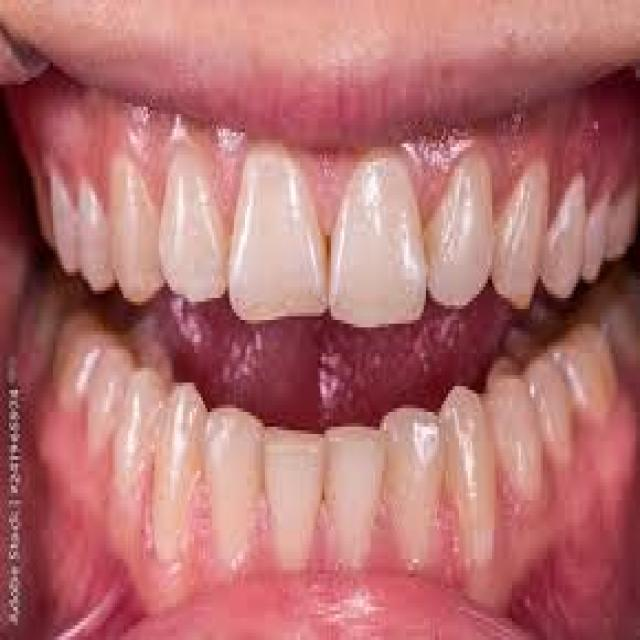tooth: (223, 125, 333, 331), (333, 151, 426, 335), (203, 379, 267, 570), (157, 136, 225, 313), (428, 136, 494, 313), (441, 390, 501, 574), (494, 136, 550, 320), (264, 416, 326, 578), (485, 357, 543, 526), (382, 401, 441, 563), (159, 364, 203, 570), (106, 140, 159, 309), (327, 416, 386, 562), (124, 342, 161, 555), (525, 350, 583, 467), (560, 316, 622, 419), (51, 291, 97, 419), (550, 151, 587, 309), (88, 331, 126, 471), (73, 177, 115, 294), (49, 155, 80, 283), (587, 184, 611, 298)
